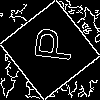P: (25, 25, 74, 64)
